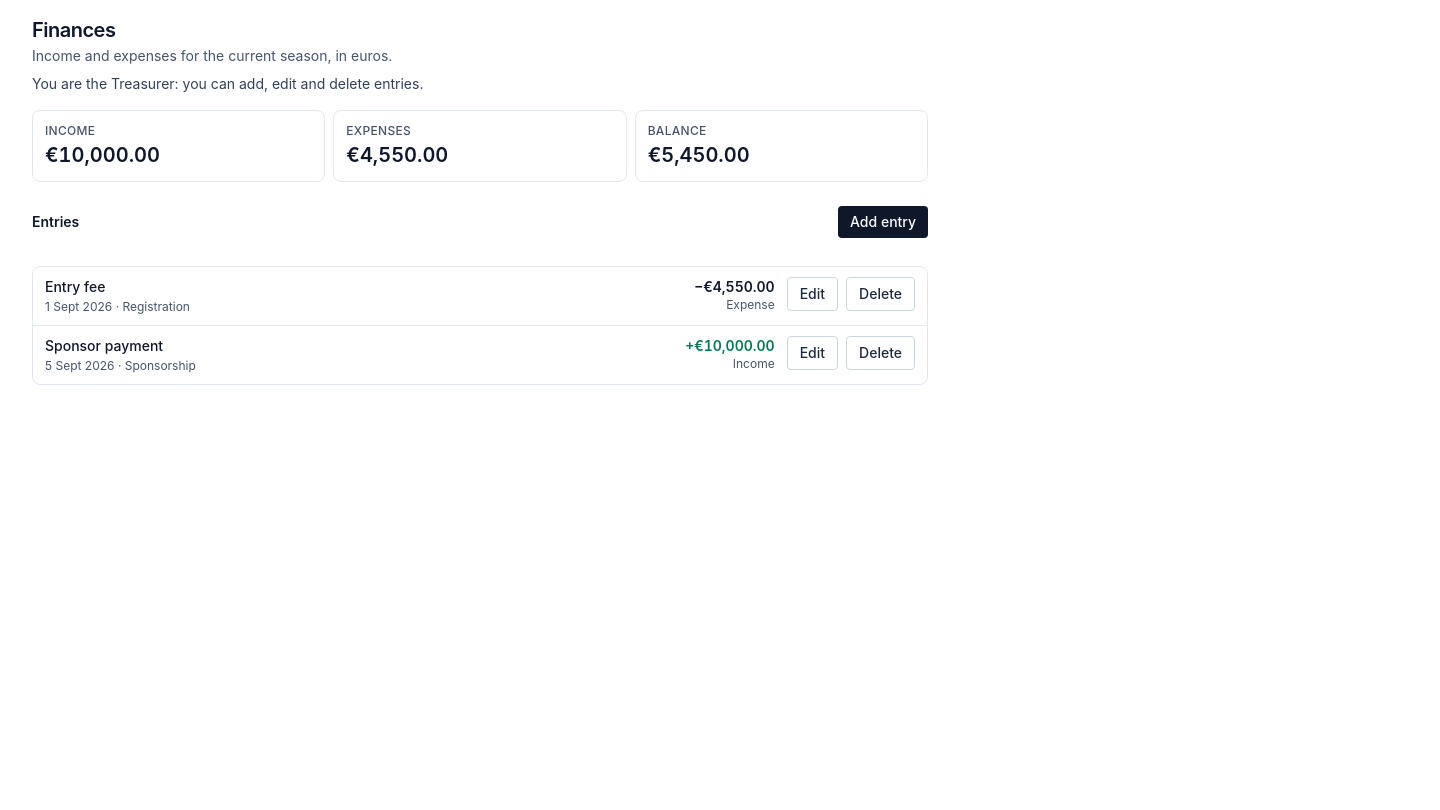
Test case: losing access in the middle of an action › keeps the refusal on screen after the page switches to "nothing to show you"
The image size is (1440, 810).
Step 1. Click the button with aria-label "Delete Entry fee" → (881, 294), box [846,277,915,311]
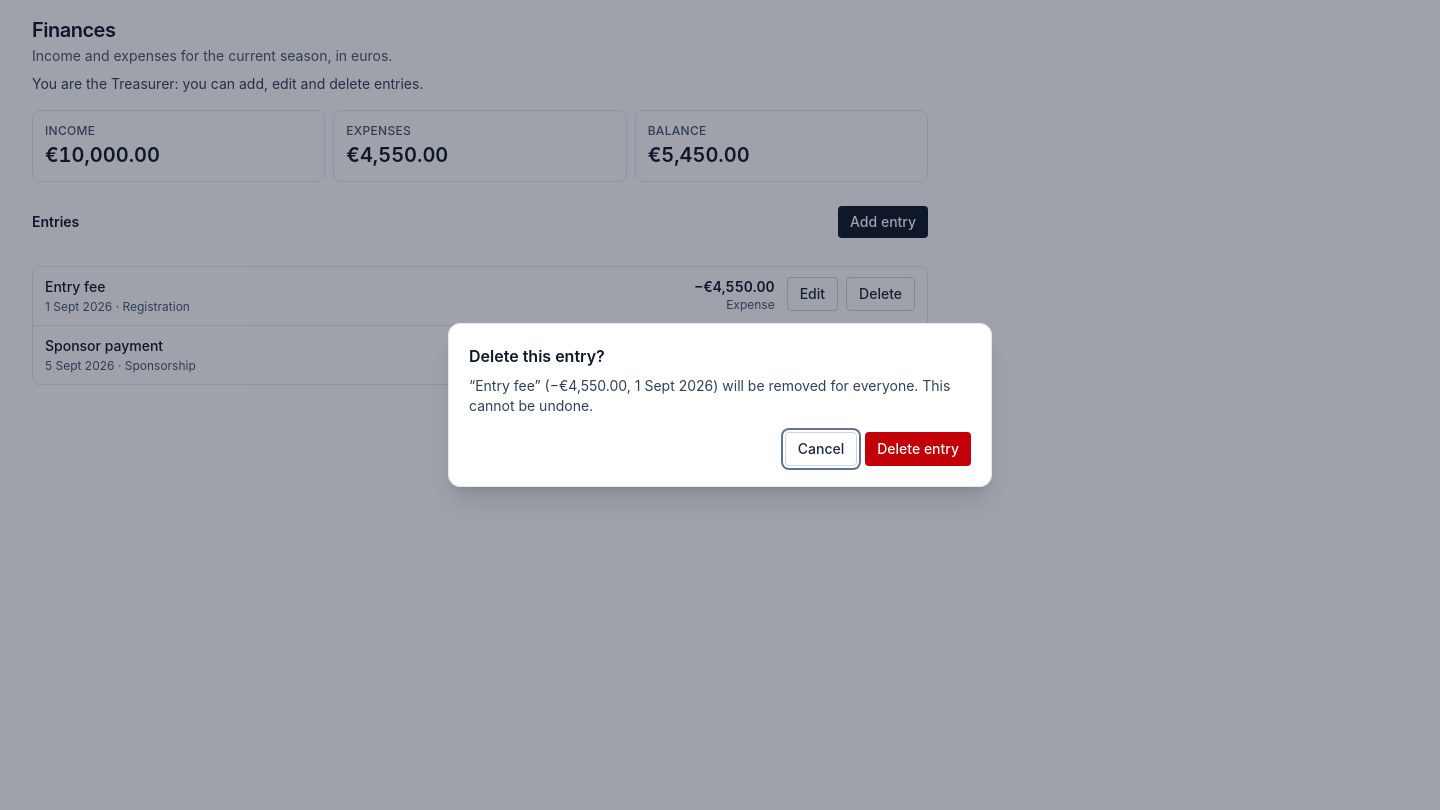
Step 2. Click the button "Delete entry" → (918, 449), box [865,432,971,466]
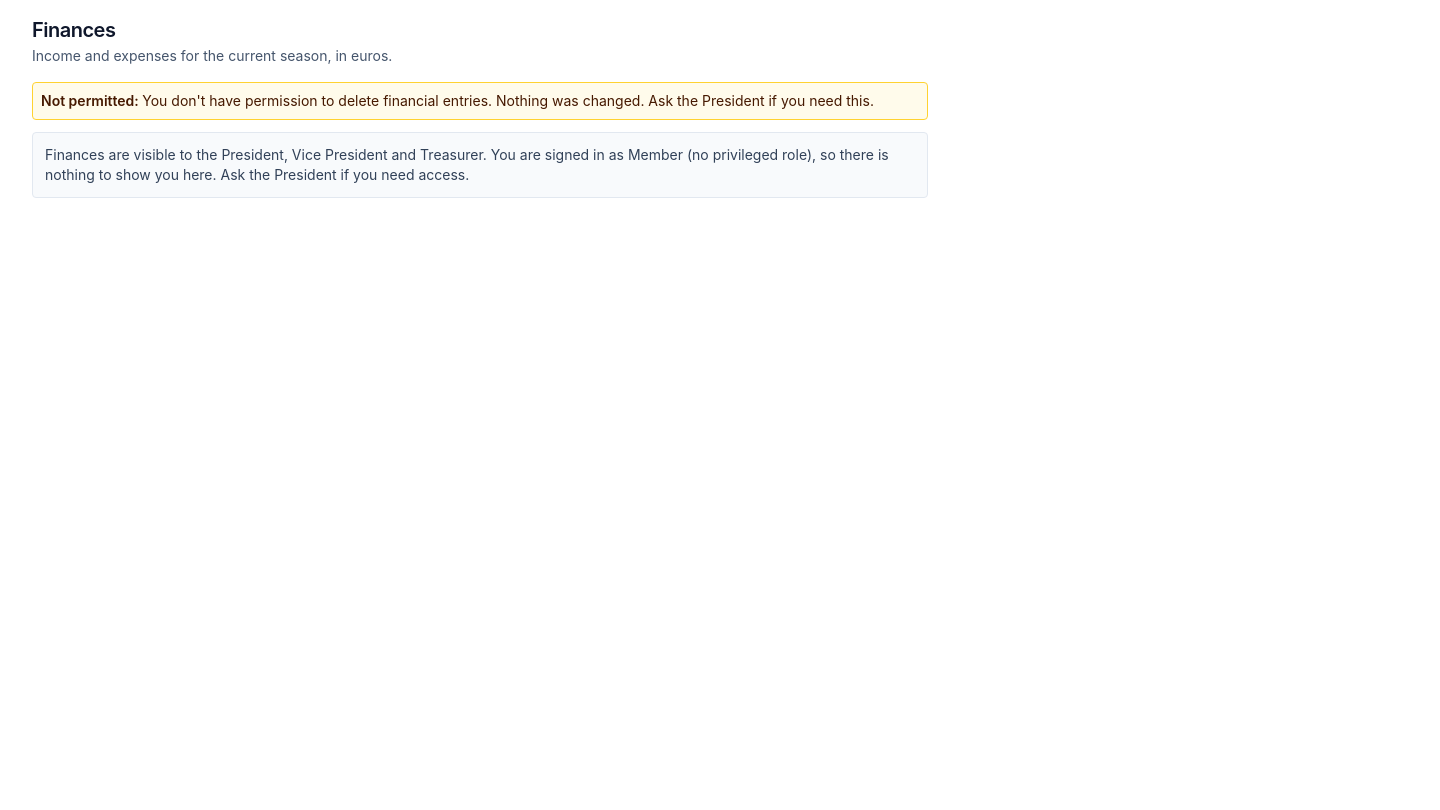
Now the text "visible to the President, Vice President and Treasurer" is shown, box [45,146,628,163]
